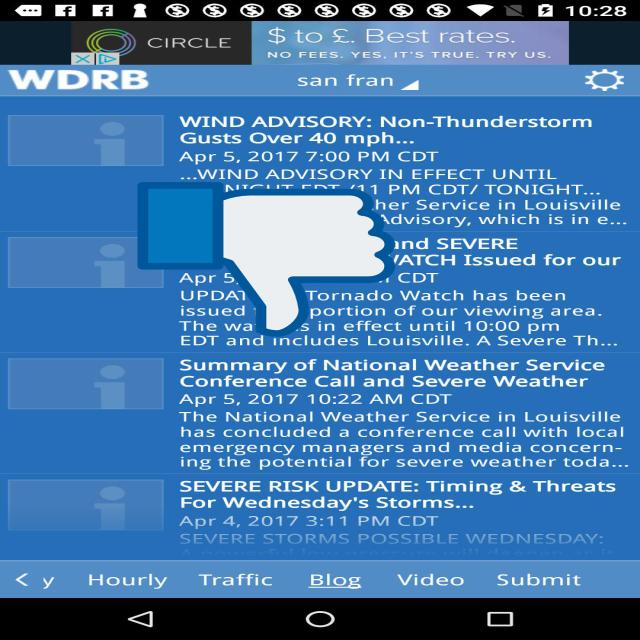obstruction: (137, 179, 396, 340)
